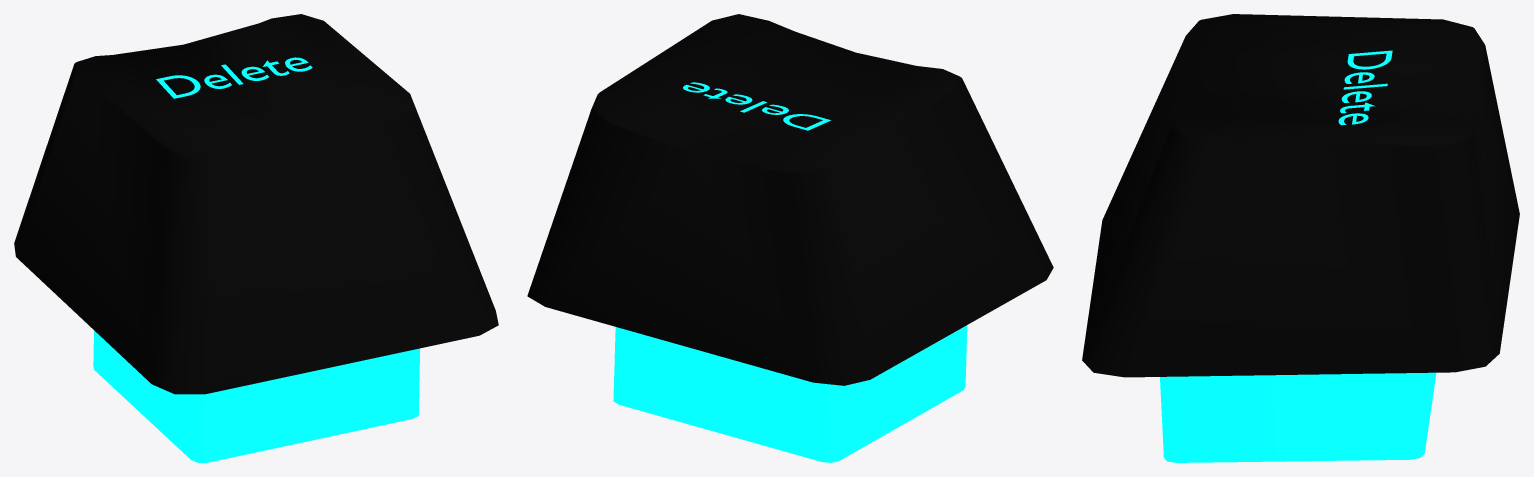
The model's file is key_delete-RBGMdf22.glb.
3 renders of one model, left to right at view 1: azimuth 30°, elevation 25°; view 2: azimuth 150°, elevation 25°; view 3: azimuth 270°, elevation 25°, orthographic. The views are drawn at different scales.
Visible parts, largest first — view 1: StudyShelf_1086; view 2: StudyShelf_1086; view 3: StudyShelf_1086.
Part boxes in pixels (x1=…): StudyShelf_1086: x1=14, y1=14, x2=498, y2=462; StudyShelf_1086: x1=527, y1=14, x2=1053, y2=462; StudyShelf_1086: x1=1082, y1=14, x2=1519, y2=462.
Size of the model in its own units: 4.35 by 3.62 by 4.35.
